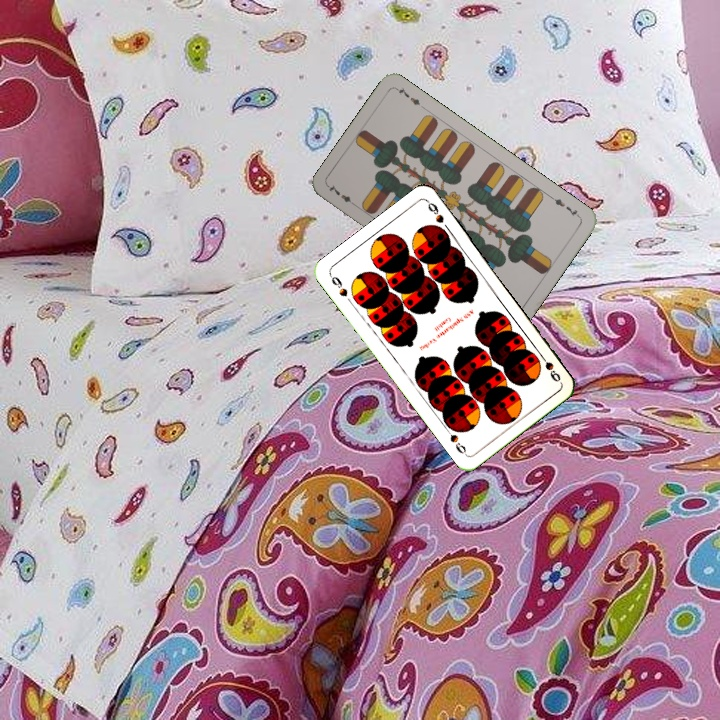E7: (547, 192, 583, 221), (325, 181, 360, 210)
S9: (535, 349, 563, 384), (326, 271, 350, 299)
